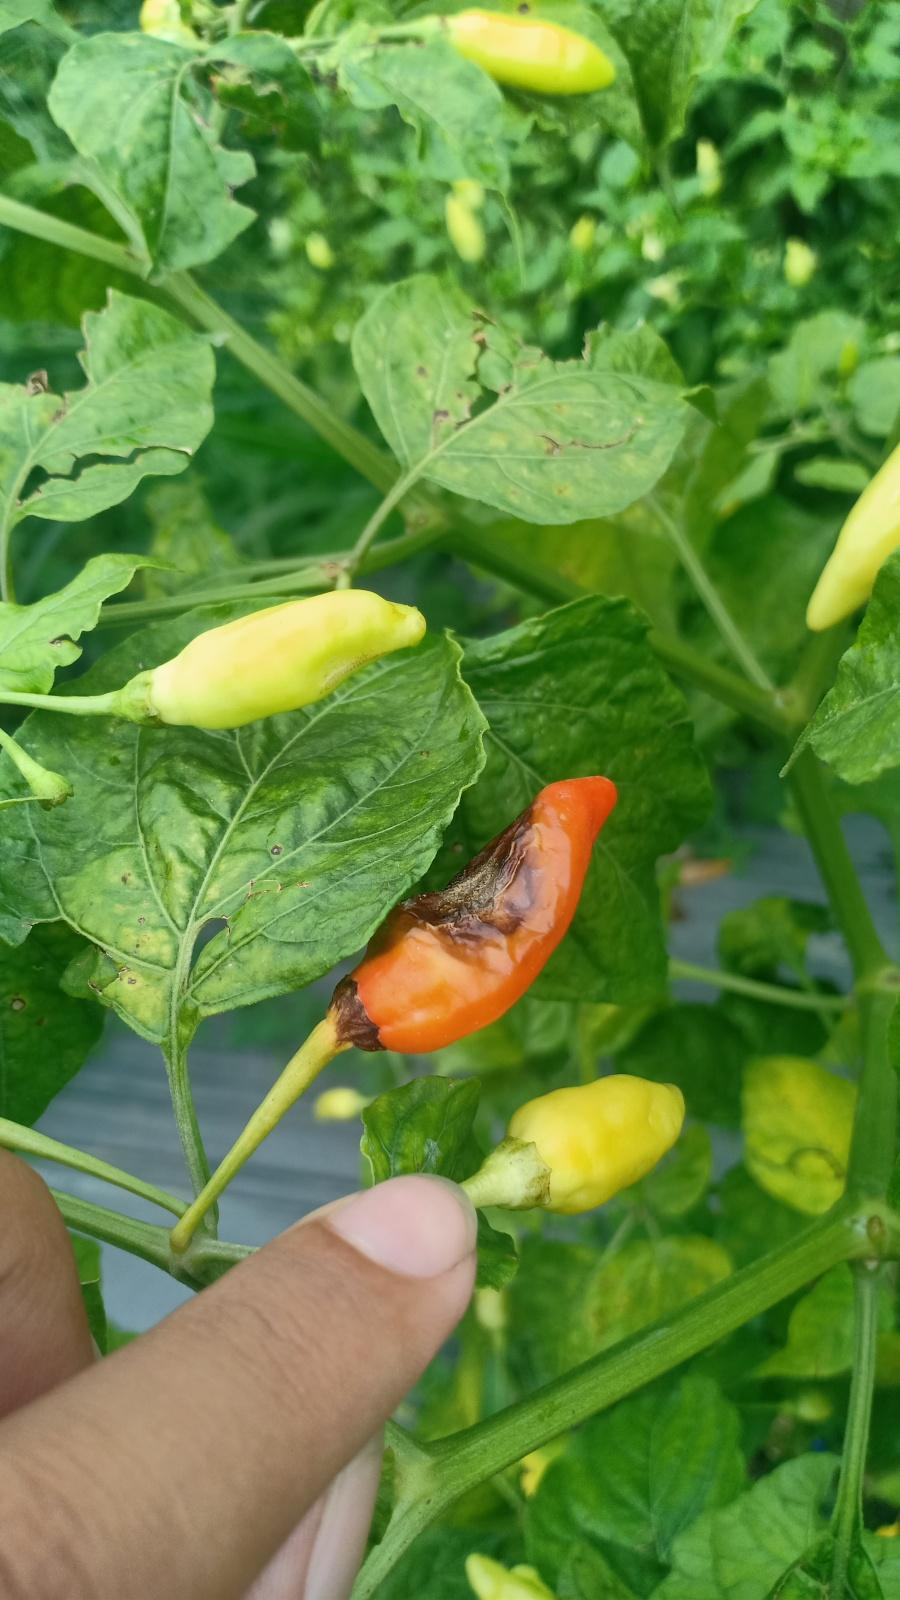antraknosa: (345, 775, 615, 1047)
cabai_normal: (154, 584, 425, 735), (504, 1073, 689, 1211), (802, 458, 900, 634), (436, 11, 613, 93)
